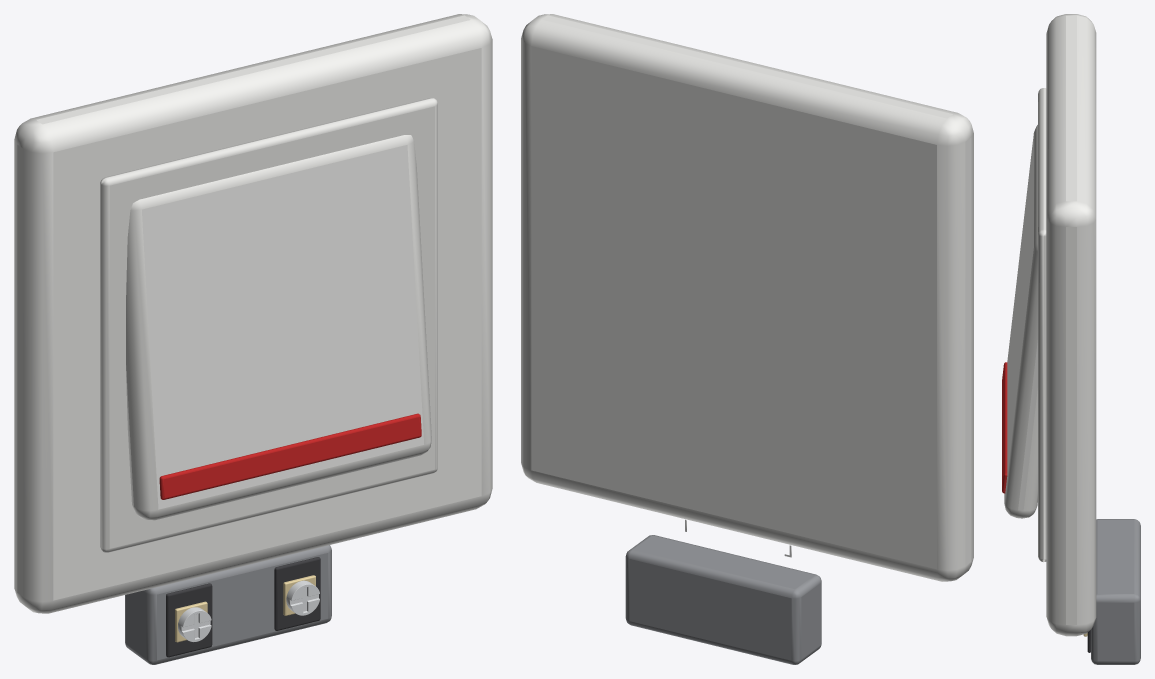
3 renders of one model, left to right at view 1: azimuth 30°, elevation 25°; view 2: azimuth 150°, elevation 25°; view 3: azimuth 270°, elevation 25°, orthographic. The views are drawn at different scales.
Parts seen in each view (by area): view 1: body, mech; view 2: body, mech; view 3: body, mech.
Part boxes in pixels (x1,y1,x2,y2): body: [14, 14, 492, 613]; mech: [125, 545, 331, 664]; body: [521, 14, 973, 581]; mech: [625, 519, 821, 664]; body: [1002, 14, 1096, 636]; mech: [1083, 519, 1140, 664].
Size of the model in its own units: 0.086 by 0.103 by 0.025.
